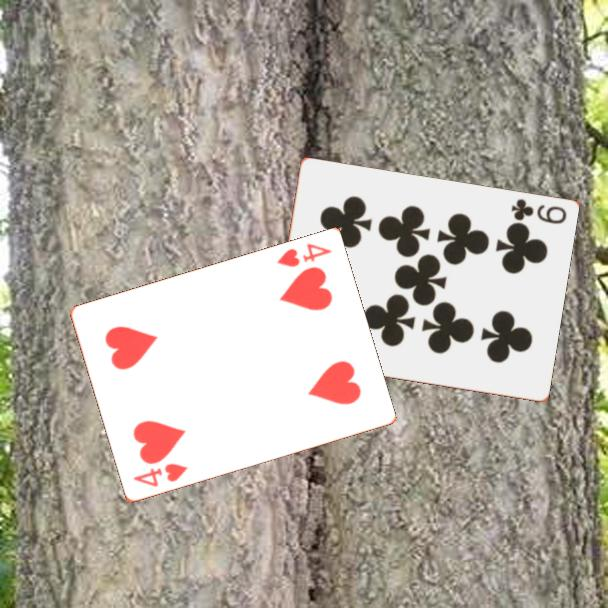c09: (507, 196, 569, 227)
h04: (273, 240, 334, 271), (129, 460, 190, 490)
